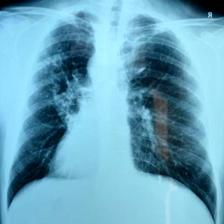tuberculosis: (1, 6, 224, 224)
